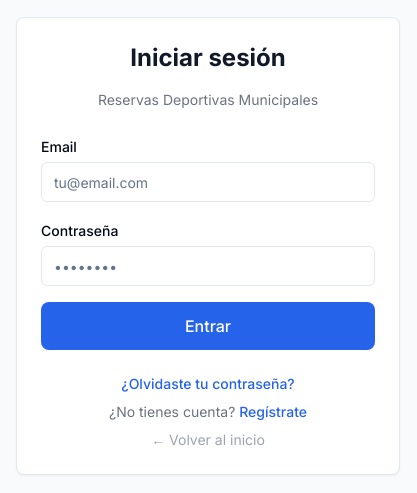
Test: PaginaLogin › debería mostrar "Cargando..." en el botón mientras se procesa el login
Type "ana@example.com" into the field labelled "Email" at [208, 182], box [41, 162, 375, 202]
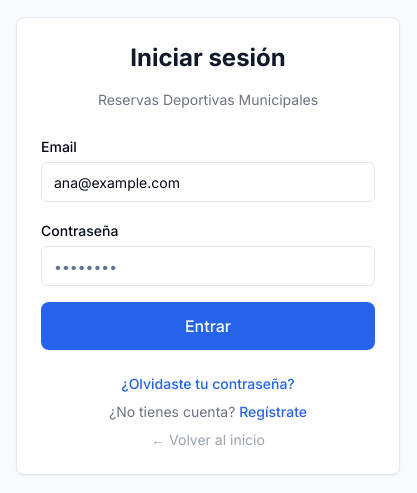
Type "123456" into the password field labelled "Contraseña" at [208, 266], box [41, 246, 375, 286]
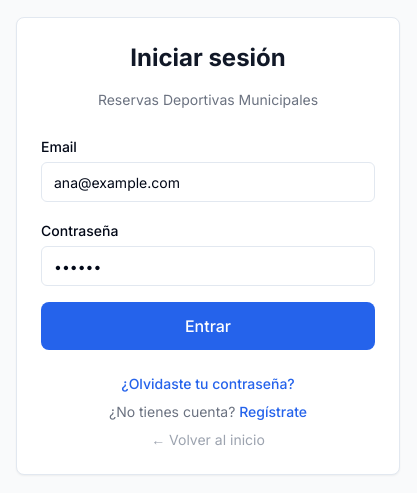
Click the button "Entrar" at [208, 326], box [41, 302, 375, 350]
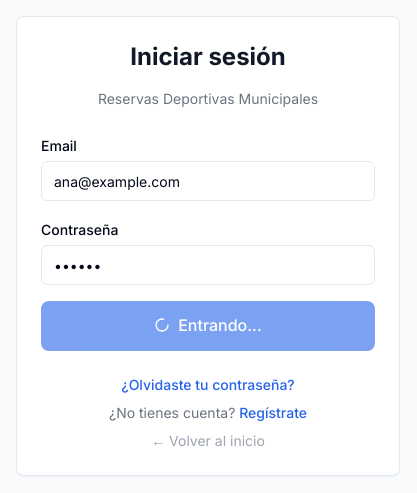
Now the button "Entrando..." is shown, box [41, 301, 375, 351]
